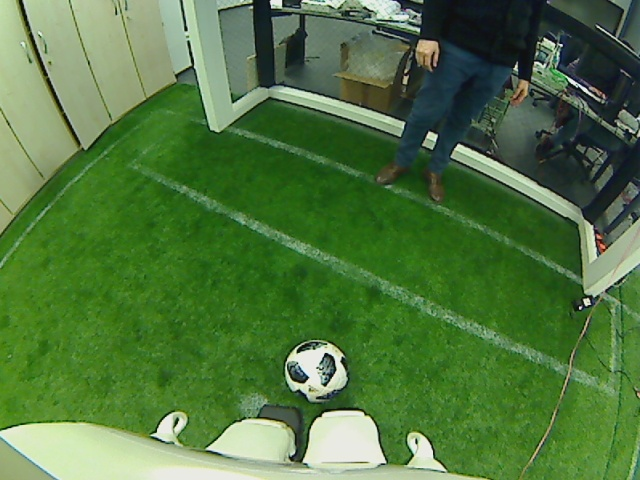ball: (282, 339, 350, 401)
